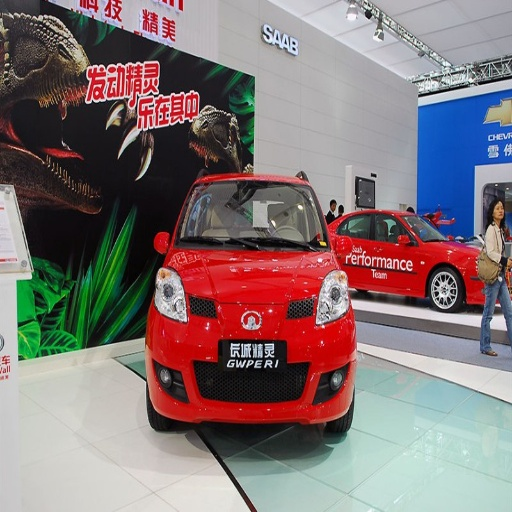front_bumper: (151, 294, 350, 423)
front_glass: (179, 180, 327, 249)
front_left_light: (315, 273, 349, 325)
front_right_light: (154, 266, 190, 321)
